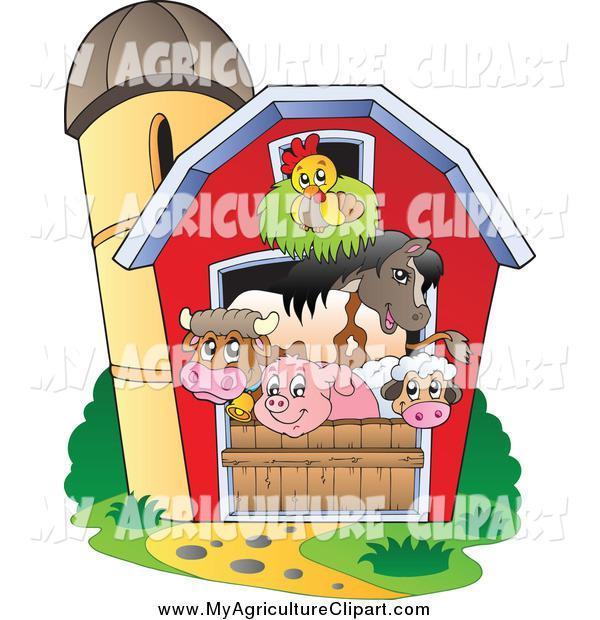bird: (269, 133, 371, 237)
cow: (173, 288, 409, 407)
horse: (277, 230, 445, 335)
sheep: (346, 355, 457, 434)
